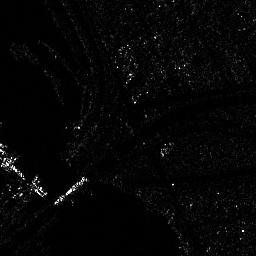ship: (54, 176, 89, 204)
